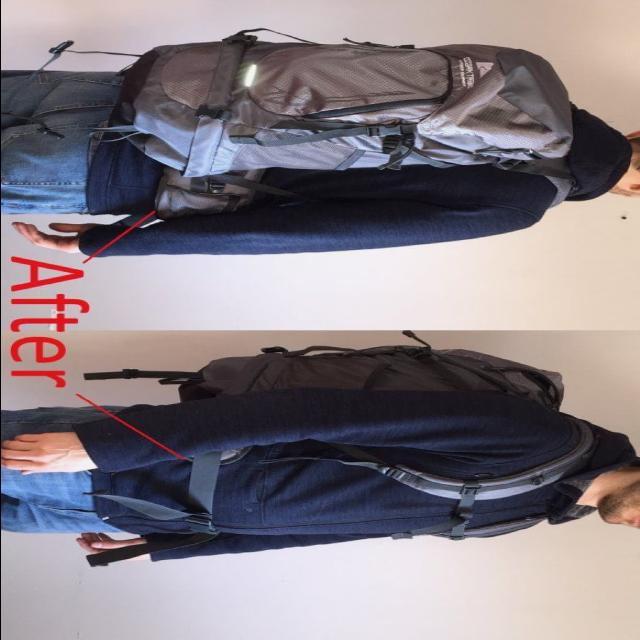backpack: (109, 29, 579, 219), (161, 337, 598, 517)
